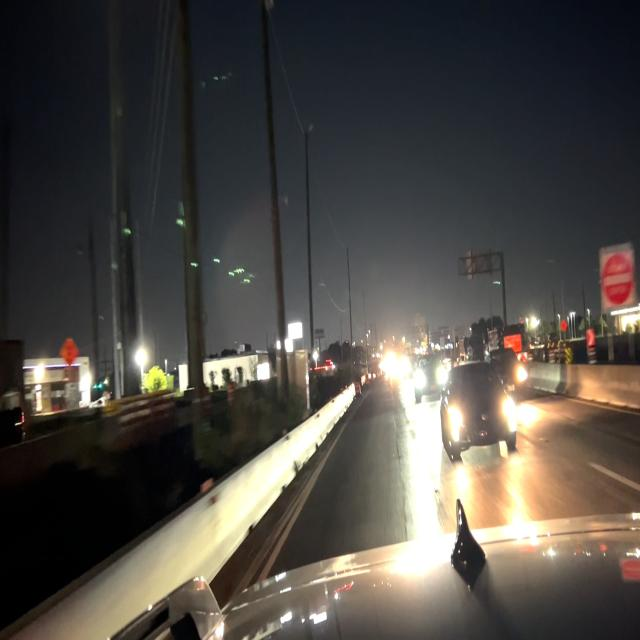back-of-sign: (456, 244, 504, 282)
